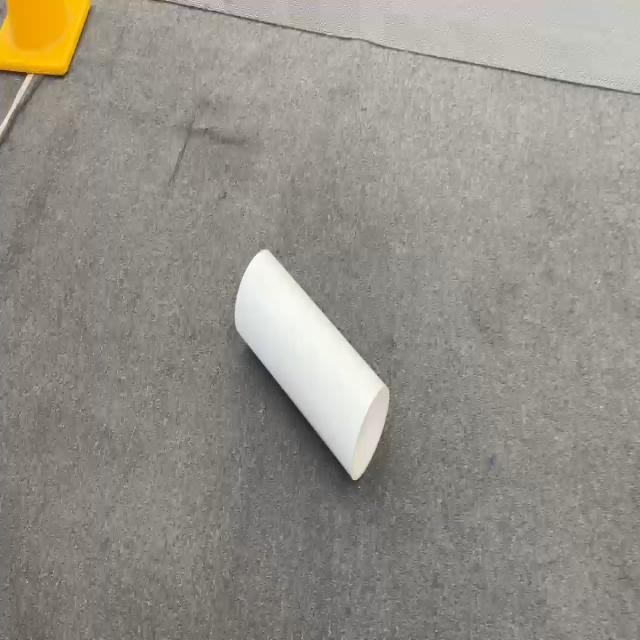coral: (233, 247, 390, 482)
